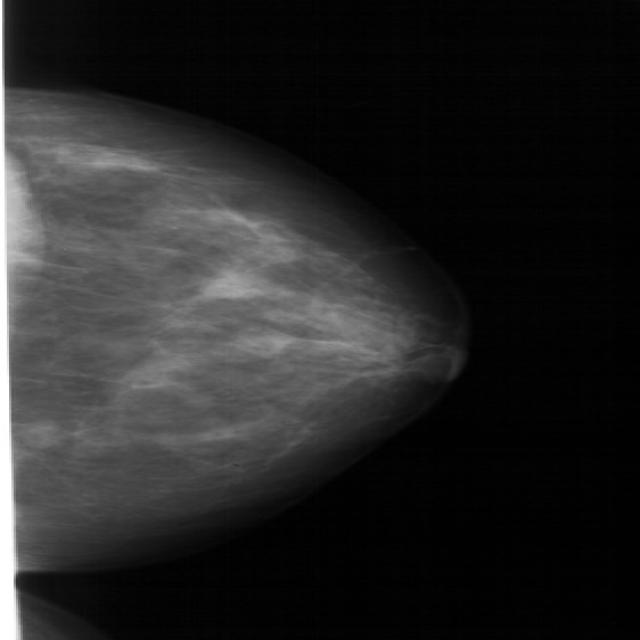tumour: (16, 415, 59, 448)
